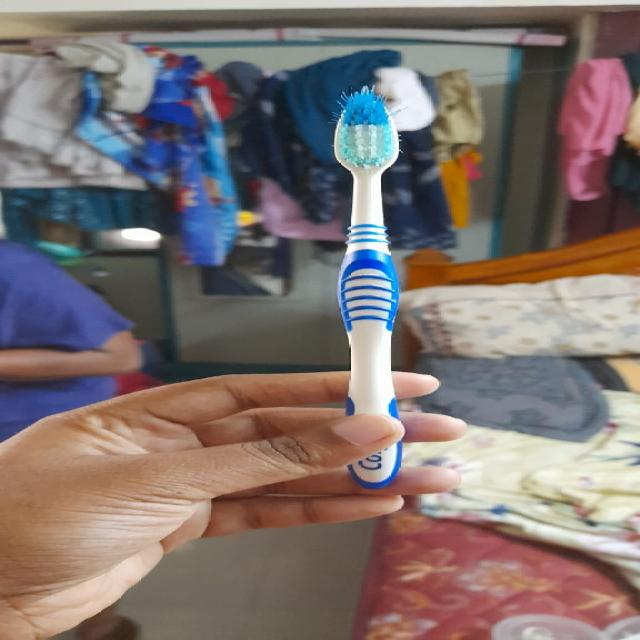Tooth_Brush - Non Recyclable: (296, 77, 433, 523)
